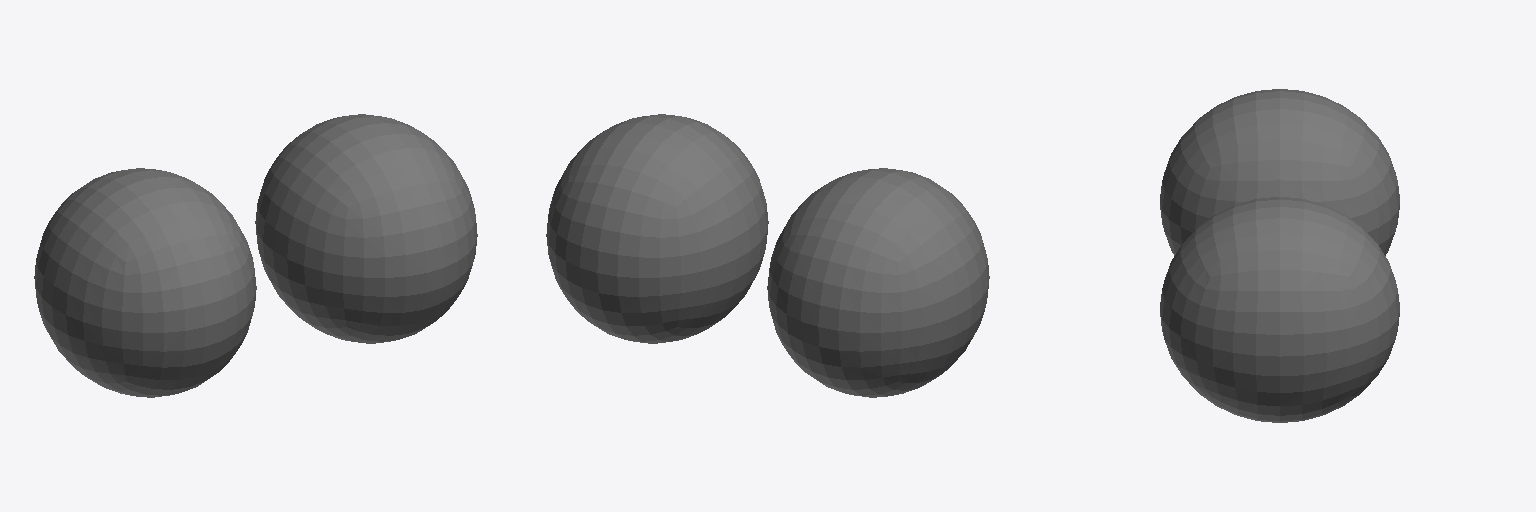
The model's file is LowPoly_Apostador_Olhos.obj.
3 renders of one model, left to right at view 1: azimuth 30°, elevation 25°; view 2: azimuth 150°, elevation 25°; view 3: azimuth 270°, elevation 25°, orthographic.
Visible parts, largest first — view 1: LowPoly_Apostador_Olhos; view 2: LowPoly_Apostador_Olhos; view 3: LowPoly_Apostador_Olhos.
Part boxes in pixels (left/top/right/bottom): LowPoly_Apostador_Olhos: left=34, top=114, right=477, bottom=397; LowPoly_Apostador_Olhos: left=546, top=114, right=989, bottom=397; LowPoly_Apostador_Olhos: left=1160, top=89, right=1399, bottom=422.
Bounding box in the file's own units: 10.04 × 4.88 × 5.13.